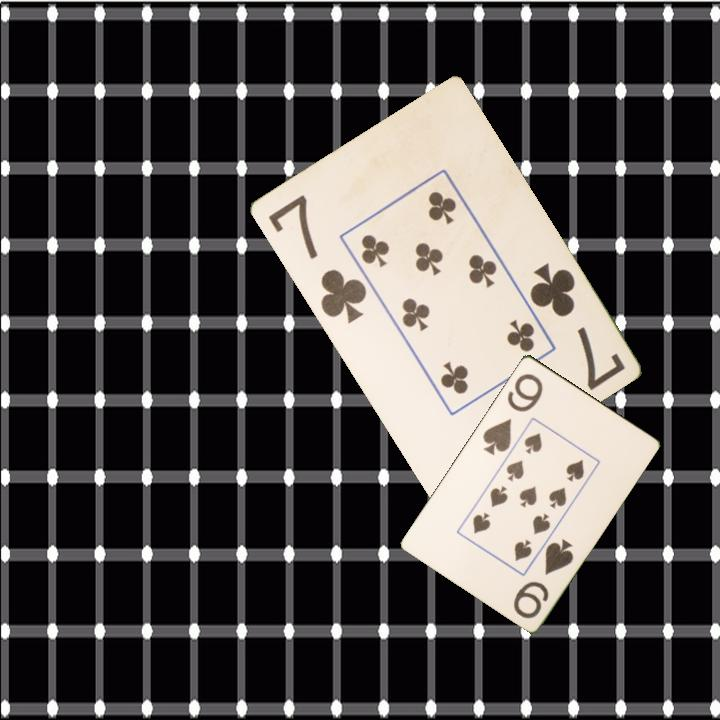7c: (264, 191, 370, 327), (525, 259, 628, 394)
9s: (479, 369, 546, 458), (509, 534, 577, 621)
